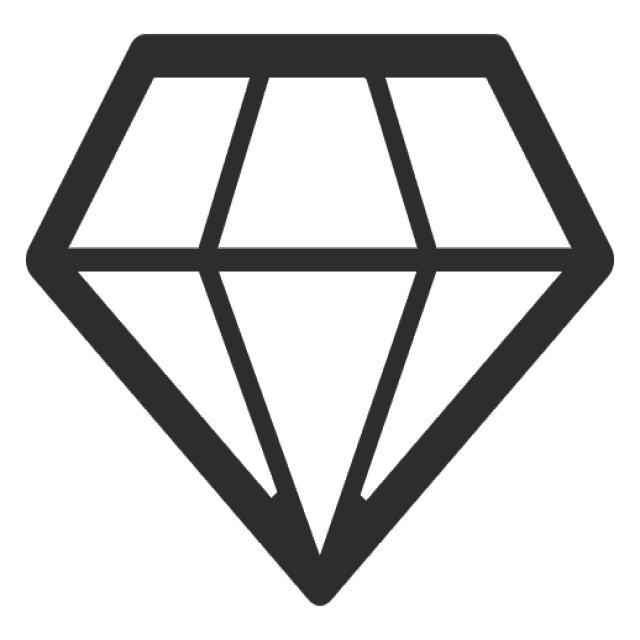diamond: (15, 25, 623, 617)
